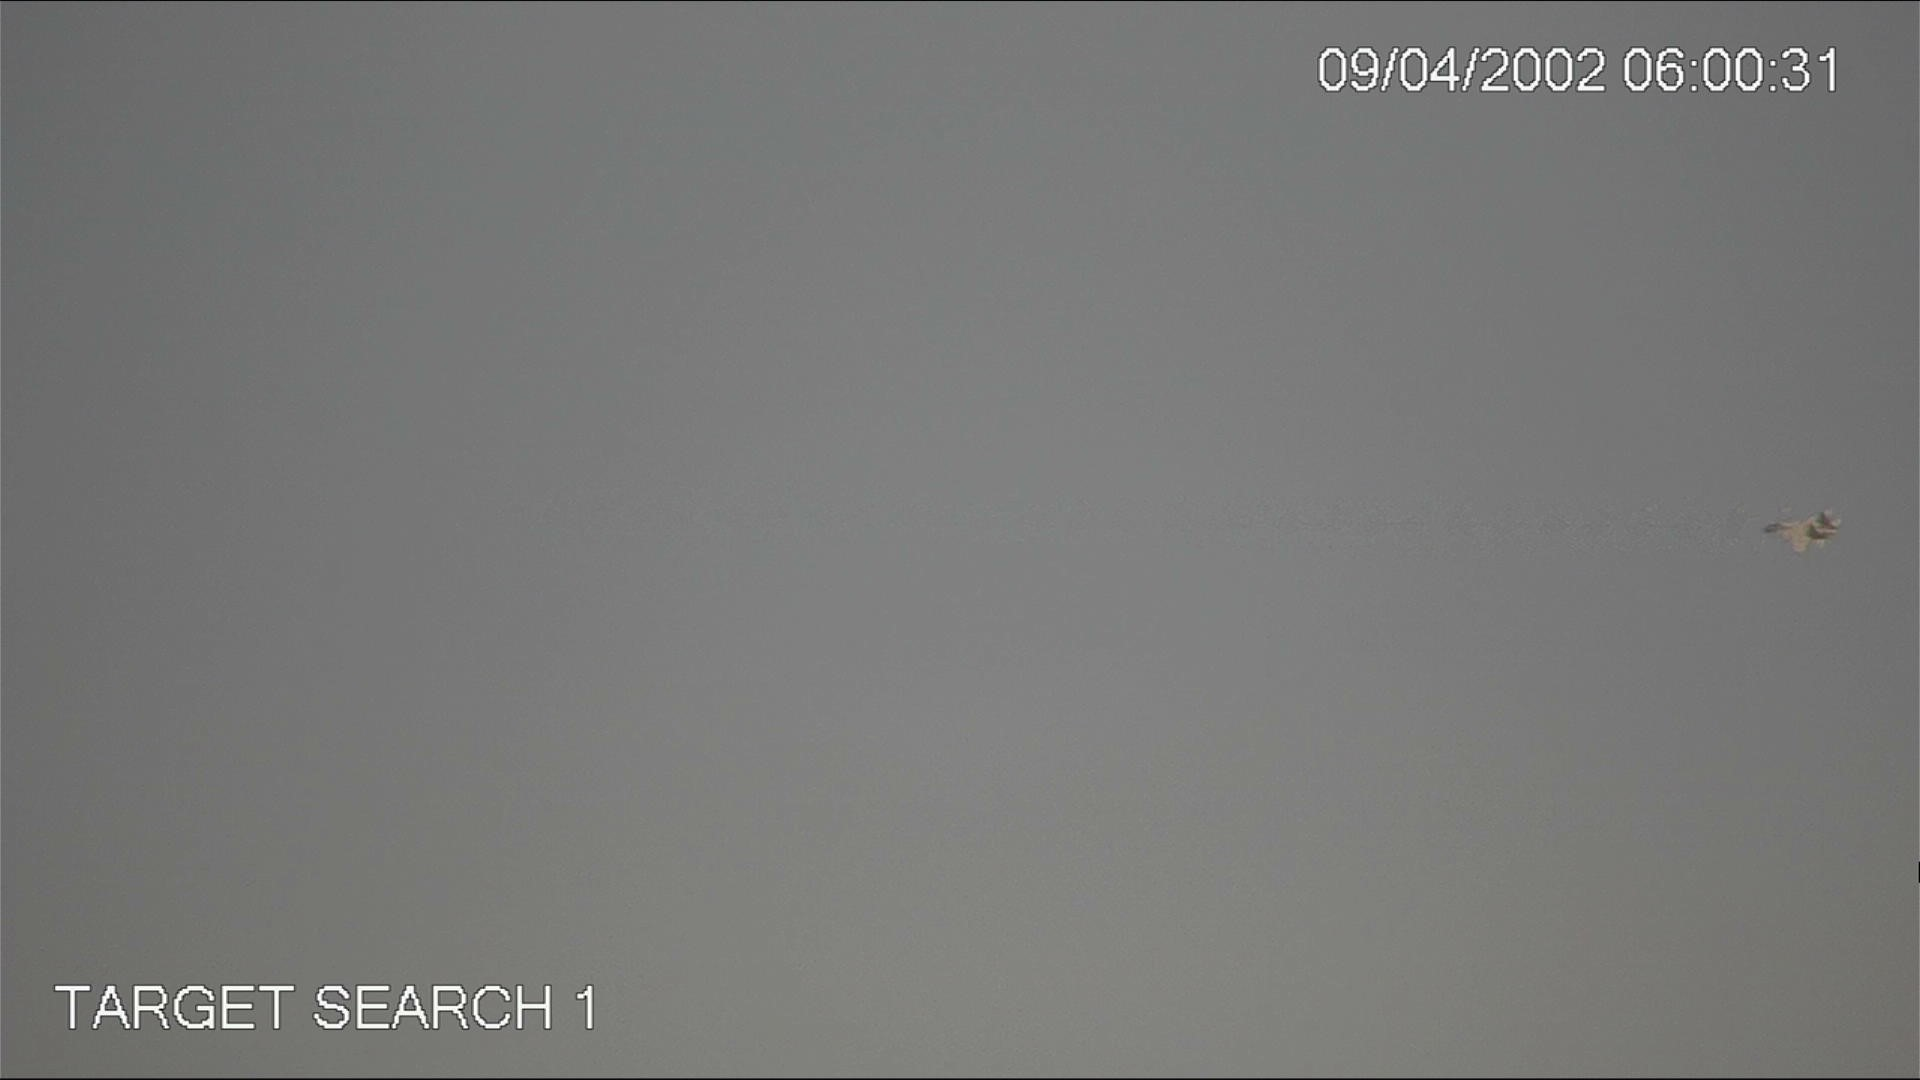SU_30: (1762, 512, 1841, 553)
